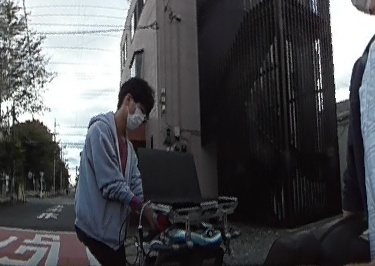person: (77, 78, 154, 266)
